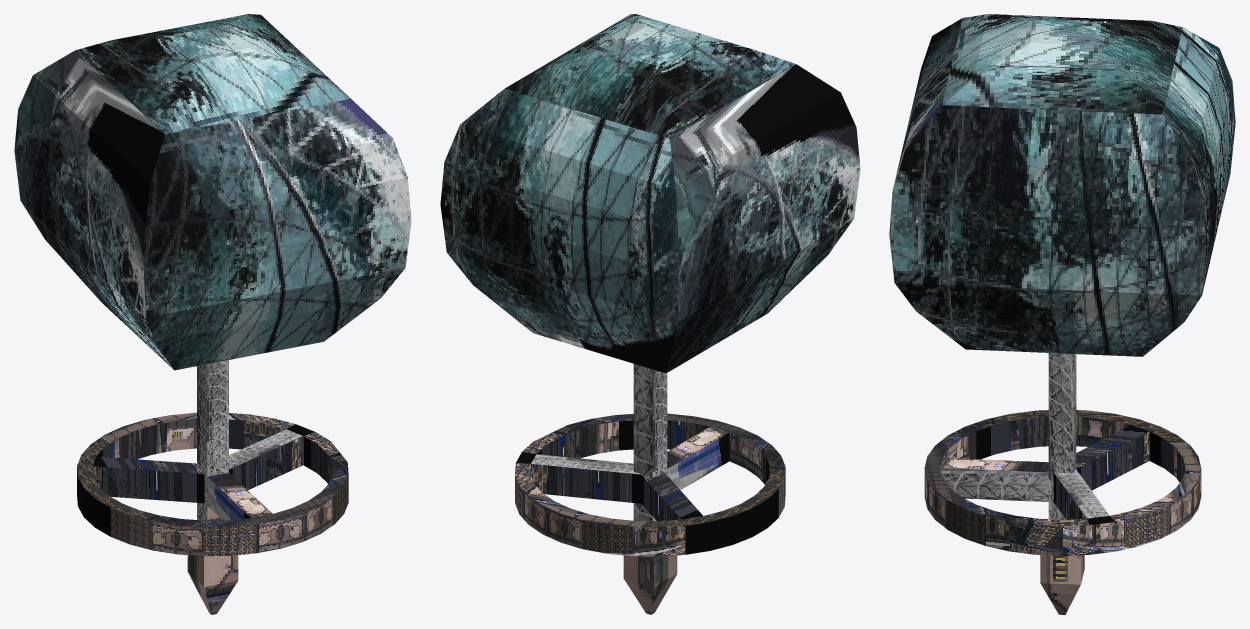
Rendered from SpaceStation.glb.
The picture shows the model from 3 angles, left to right: view 1: azimuth 30°, elevation 25°; view 2: azimuth 150°, elevation 25°; view 3: azimuth 270°, elevation 25°; orthographic projection.
Parts seen in each view (by area): view 1: Circle; view 2: Circle; view 3: Circle.
Boxes of the visible parts, <box> form: Circle: <box>14,14,411,614</box>; Circle: <box>440,14,860,614</box>; Circle: <box>889,14,1235,614</box>.
Size of the model in its own units: 2.9 by 5.65 by 3.05.
1 material, 1 textured.
